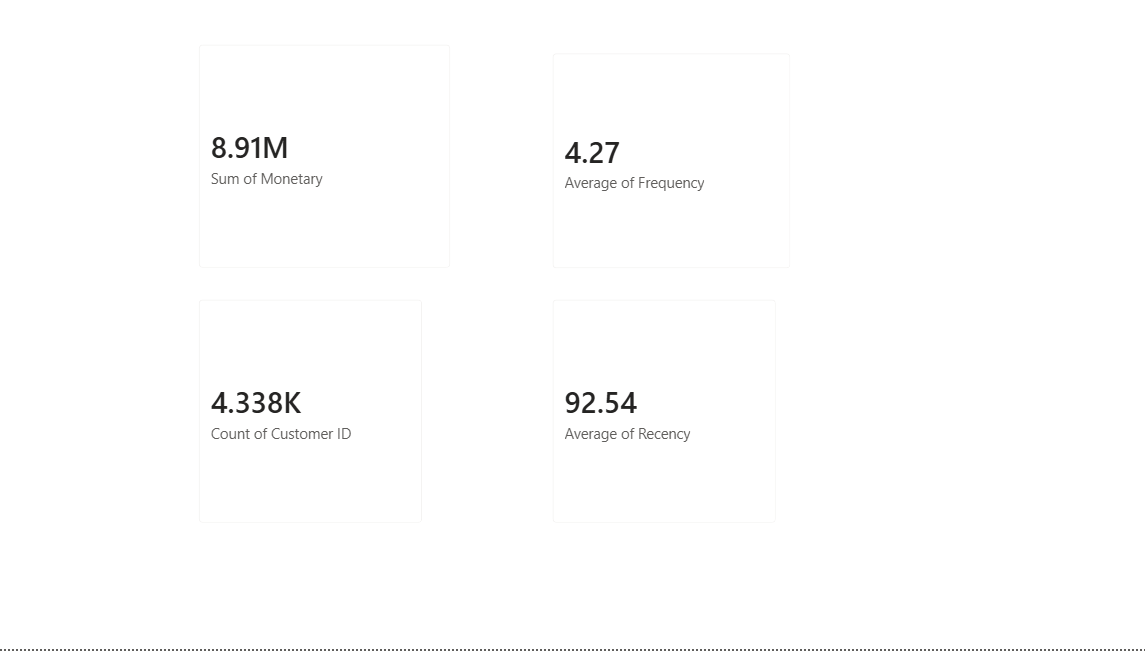

This screenshot's page, from the dashboard's own definition file:
{"tool":"powerbi","page":{"name":"Page 1","canvas":[1280,720],"ordinal":0},"visuals":[{"type":"cardVisual","fields":{"Data":["Sum(rfm_segments.Monetary)"]},"box":[216.8,39.8,310.1,279.9],"z":0},{"type":"cardVisual","fields":{"Data":["CountNonNull(rfm_segments.Customer ID)"]},"box":[216.8,319.7,279.9,279.9],"z":1000},{"type":"cardVisual","fields":{"Data":["Avg(rfm_segments.Frequency)"]},"box":[605.1,49.4,295,270.3],"z":2000},{"type":"cardVisual","fields":{"Data":["Avg(rfm_segments.Recency)"]},"box":[605.1,319.7,279.9,279.9],"z":3000}]}

Visuals, with their boxes on the page's 1280x720 design canvas (x1, y1, x2, y2). These are canvas units, not pixel positions in the 1145x667 screenshot, which may show the page scaled, cropped or inside an application window:
cardVisual - Sum(rfm_segments.Monetary): box=[217, 40, 527, 320]
cardVisual - CountNonNull(rfm_segments.Customer ID): box=[217, 320, 497, 600]
cardVisual - Avg(rfm_segments.Frequency): box=[605, 49, 900, 320]
cardVisual - Avg(rfm_segments.Recency): box=[605, 320, 885, 600]
